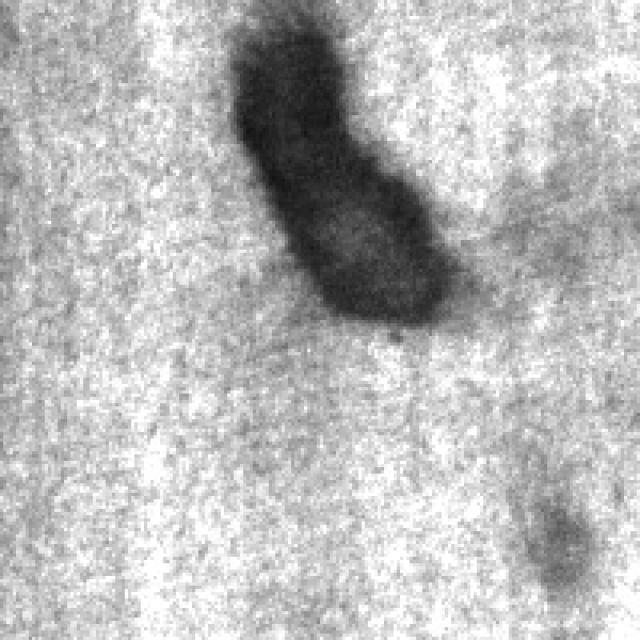patches: (221, 10, 454, 323)
